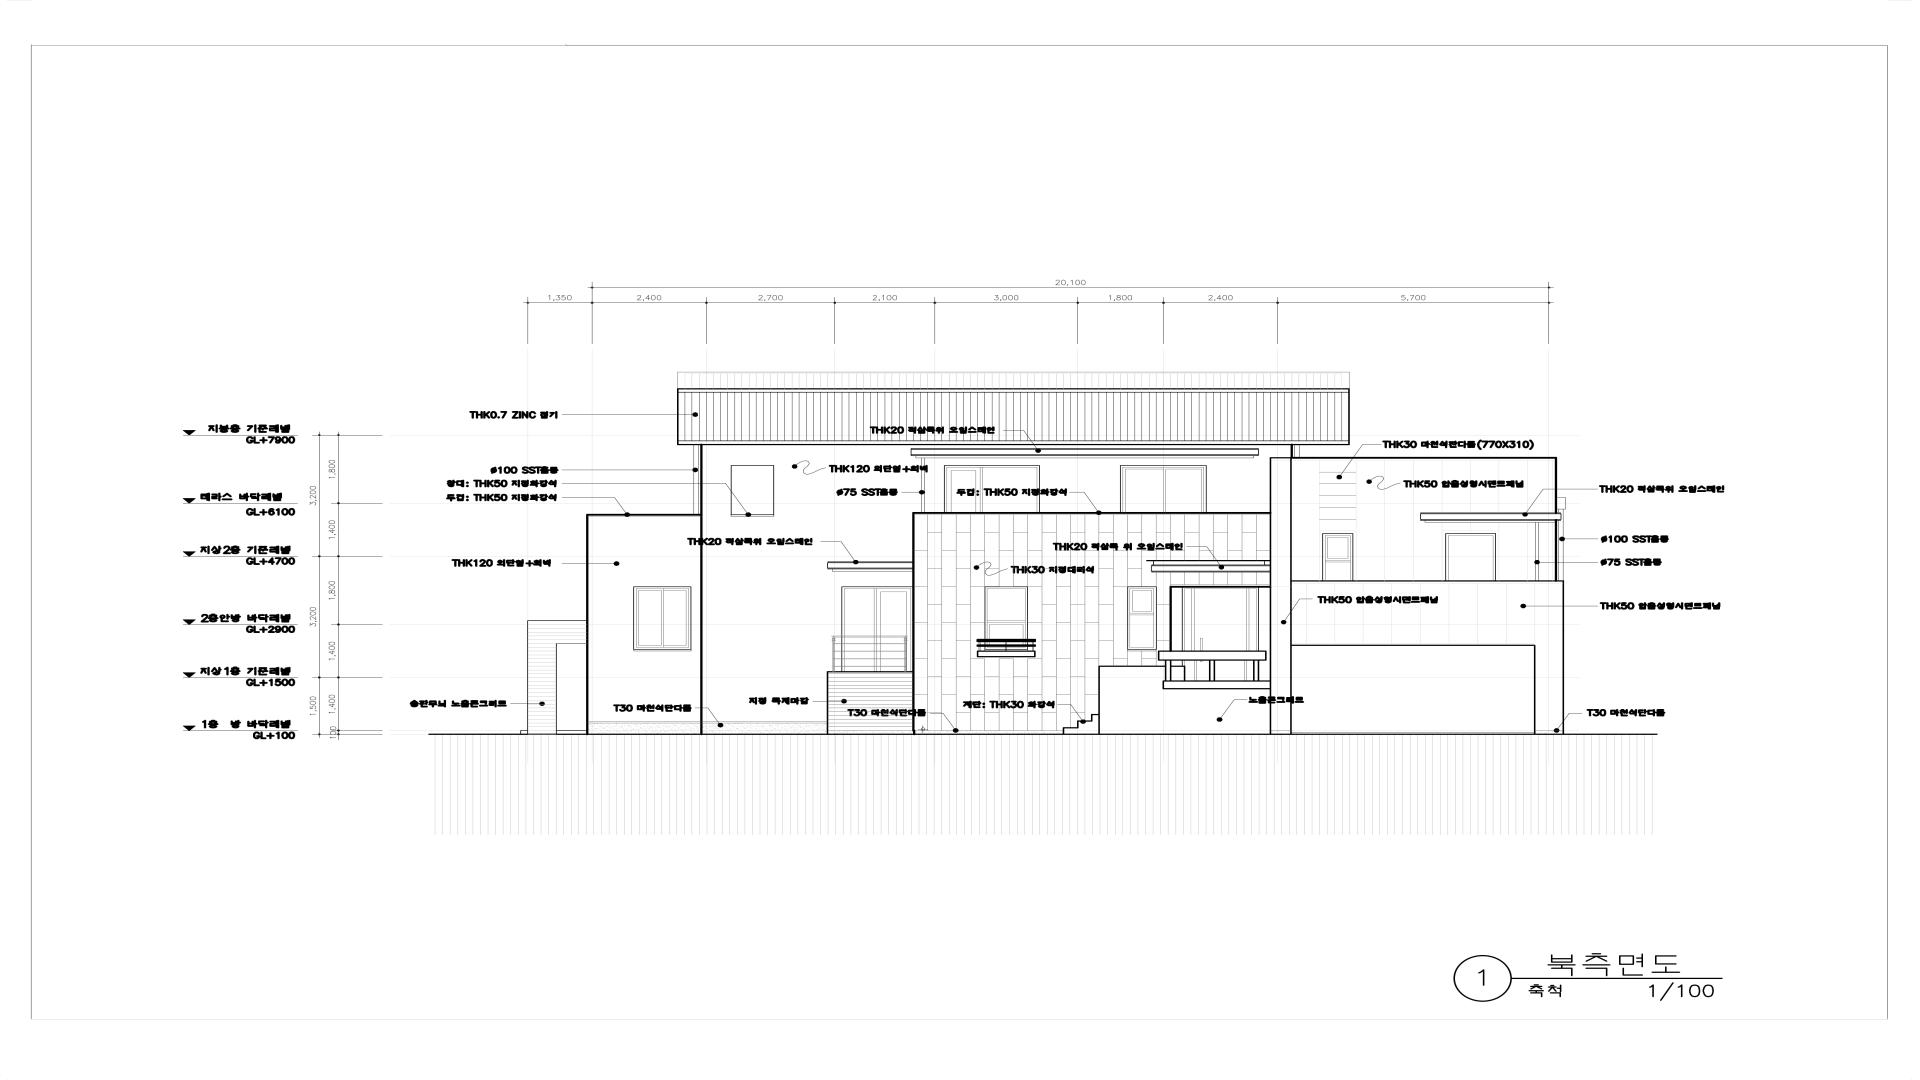door: (1291, 645, 1535, 735), (1182, 587, 1258, 682), (556, 644, 587, 731)
wall: (527, 388, 1564, 735)
window: (841, 587, 913, 671), (944, 465, 1040, 512), (1120, 465, 1207, 513), (633, 587, 691, 650), (985, 587, 1029, 650), (1445, 533, 1495, 582), (731, 465, 774, 516), (1127, 587, 1156, 650), (1323, 533, 1353, 582)
